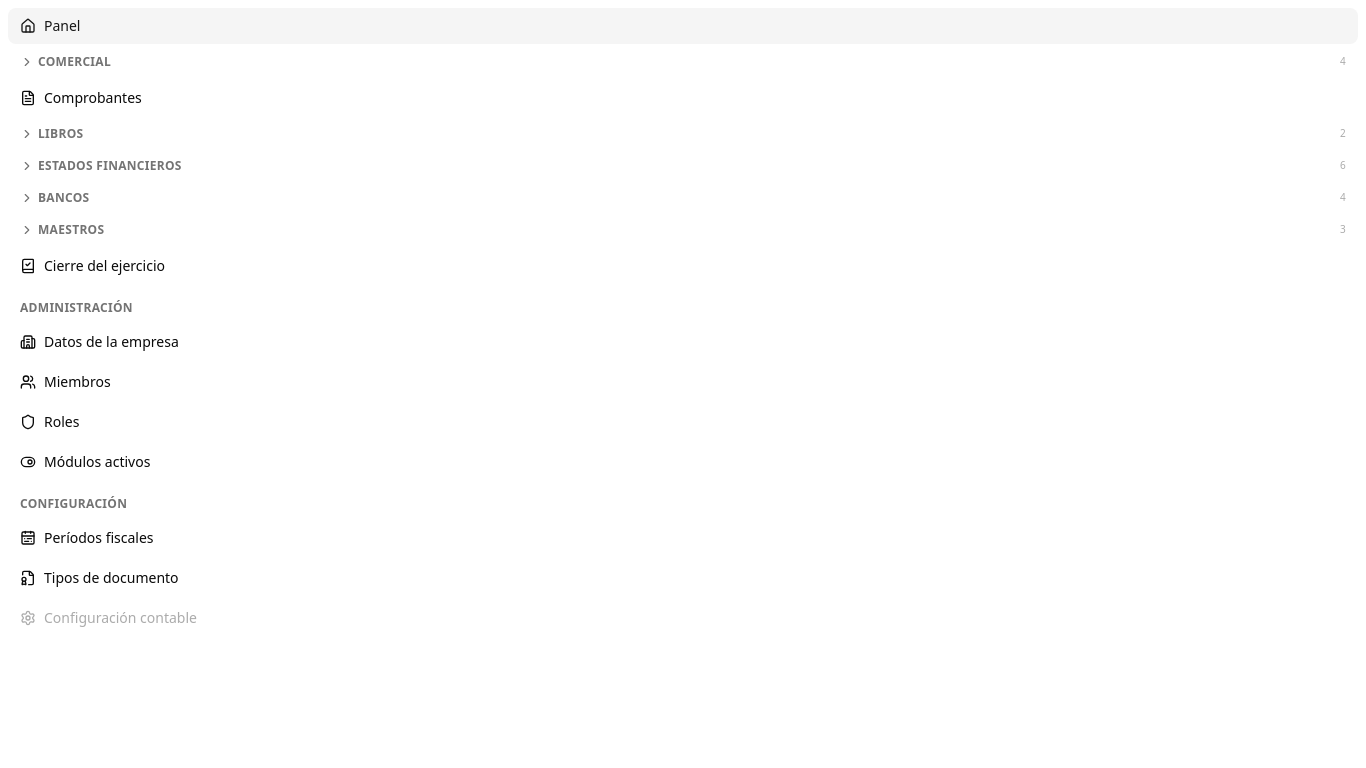
Test: NAV_SECTIONS — subgrupos colapsables › el header del grupo expone aria-expanded
Click the button "Bancos 4". click: [64, 198]
box: [8,184,1358,212]
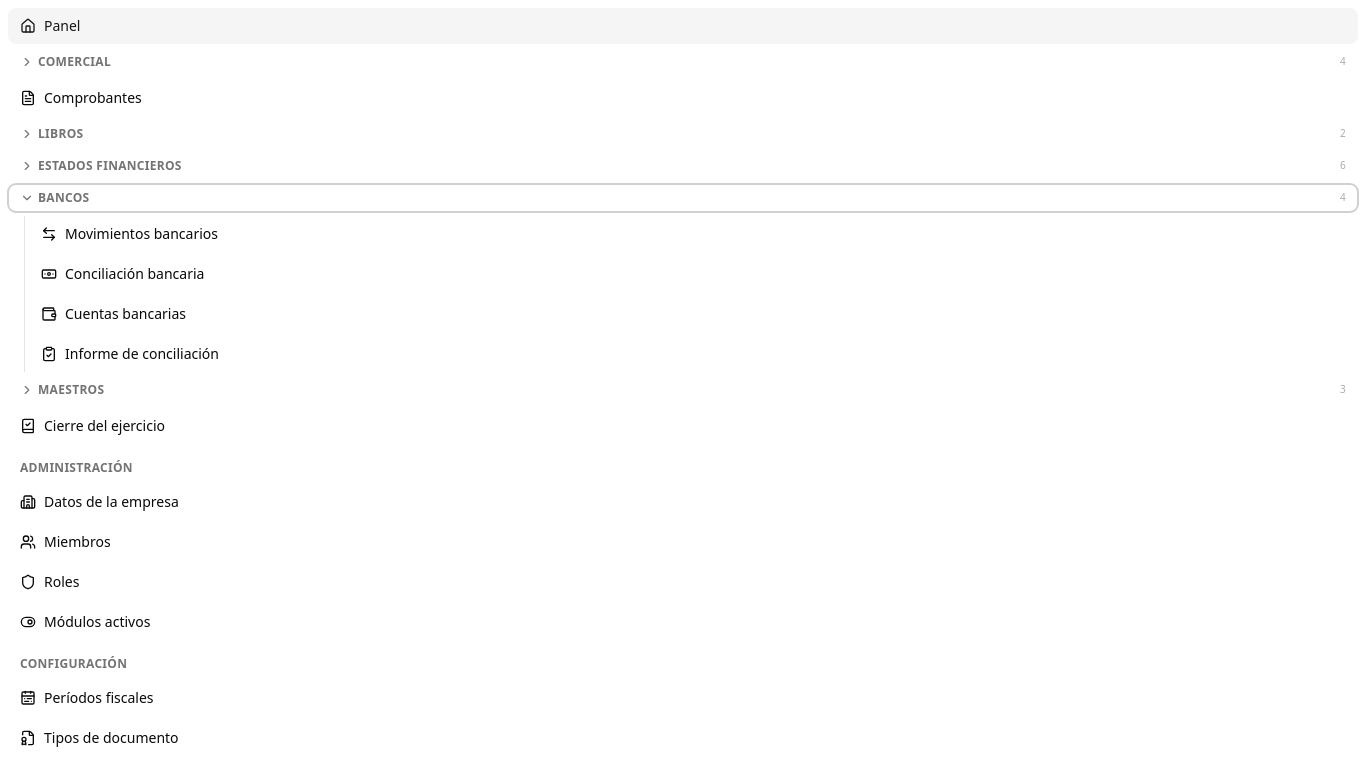
Check: the button "Bancos 4" is expanded, box [8,184,1358,212]
